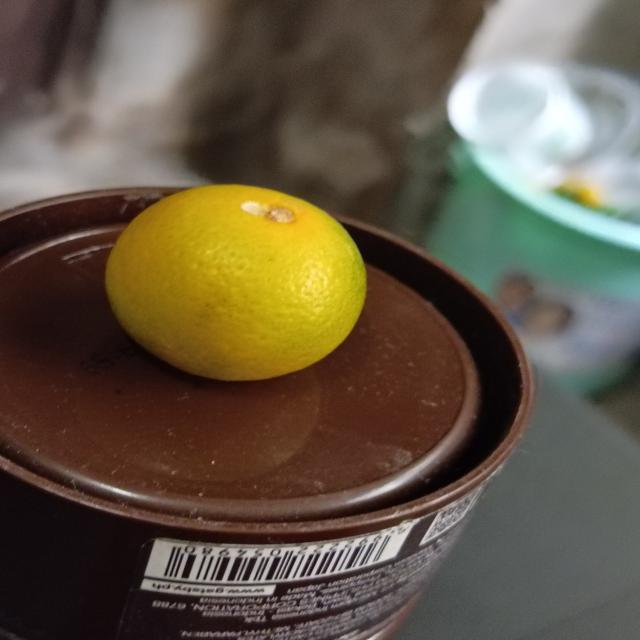greening: (105, 182, 376, 386)
